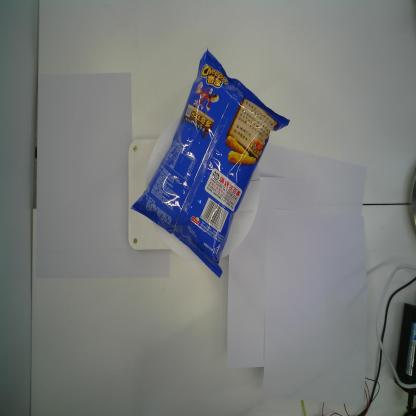Puffed Food: (130, 46, 290, 281)
